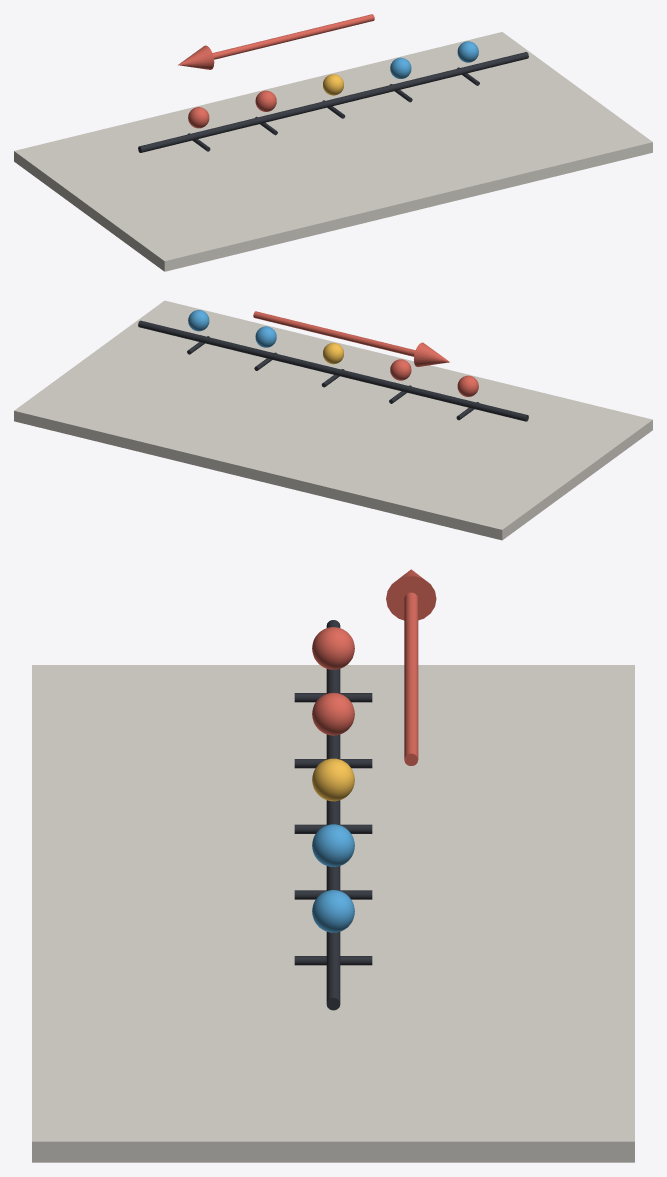
File: math-number-negative-number.glb
3 renders of one model, top to bottom at view 1: azimuth 30°, elevation 25°; view 2: azimuth 150°, elevation 25°; view 3: azimuth 270°, elevation 25°, orthographic. The views are drawn at different scales.
Visible parts, largest first — view 1: number-sense-base, zero-centered-number-line, move-left-below-zero-arrow-shaft, move-left-below-zero-arrow-head, positive-2-blue-marker; view 2: number-sense-base, zero-centered-number-line, move-left-below-zero-arrow-shaft, move-left-below-zero-arrow-head, negative-1-red-marker, positive-1-blue-marker, negative-2-red-marker, positive-2-blue-marker, zero-marker; view 3: number-sense-base, zero-centered-number-line, move-left-below-zero-arrow-shaft, move-left-below-zero-arrow-head, negative-2-red-marker, positive-2-blue-marker, positive-1-blue-marker, negative-1-red-marker, zero-marker.
Part boxes in pixels (x1=…): number-sense-base: x1=14, y1=32, x2=652, y2=271; zero-centered-number-line: x1=138, y1=52, x2=528, y2=152; move-left-below-zero-arrow-shaft: x1=212, y1=14, x2=374, y2=59; move-left-below-zero-arrow-head: x1=178, y1=45, x2=214, y2=69; positive-2-blue-marker: x1=457, y1=41, x2=478, y2=62; number-sense-base: x1=14, y1=300, x2=652, y2=540; zero-centered-number-line: x1=138, y1=320, x2=528, y2=421; move-left-below-zero-arrow-shaft: x1=253, y1=311, x2=415, y2=356; move-left-below-zero-arrow-head: x1=414, y1=342, x2=449, y2=366; negative-1-red-marker: x1=390, y1=359, x2=411, y2=380; positive-1-blue-marker: x1=255, y1=326, x2=276, y2=347; negative-2-red-marker: x1=457, y1=375, x2=478, y2=396; positive-2-blue-marker: x1=188, y1=310, x2=209, y2=331; zero-marker: x1=323, y1=343, x2=343, y2=364; number-sense-base: x1=32, y1=665, x2=634, y2=1162; zero-centered-number-line: x1=326, y1=620, x2=340, y2=1010; move-left-below-zero-arrow-shaft: x1=404, y1=592, x2=418, y2=765; move-left-below-zero-arrow-head: x1=386, y1=569, x2=436, y2=620; negative-2-red-marker: x1=312, y1=627, x2=354, y2=669; positive-2-blue-marker: x1=312, y1=890, x2=354, y2=932; positive-1-blue-marker: x1=312, y1=824, x2=354, y2=866; negative-1-red-marker: x1=312, y1=692, x2=354, y2=735; zero-marker: x1=312, y1=758, x2=354, y2=801.
Size of what is drawn, in the model's own units: 2.9 by 0.694 by 1.55.
